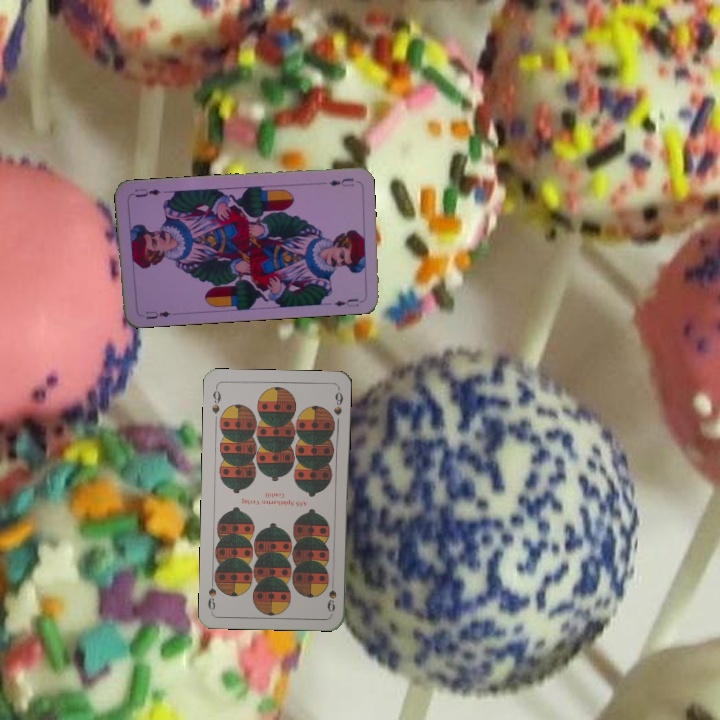EU: (325, 174, 356, 189), (142, 307, 173, 321)
S9: (208, 383, 224, 416), (324, 586, 339, 615)
